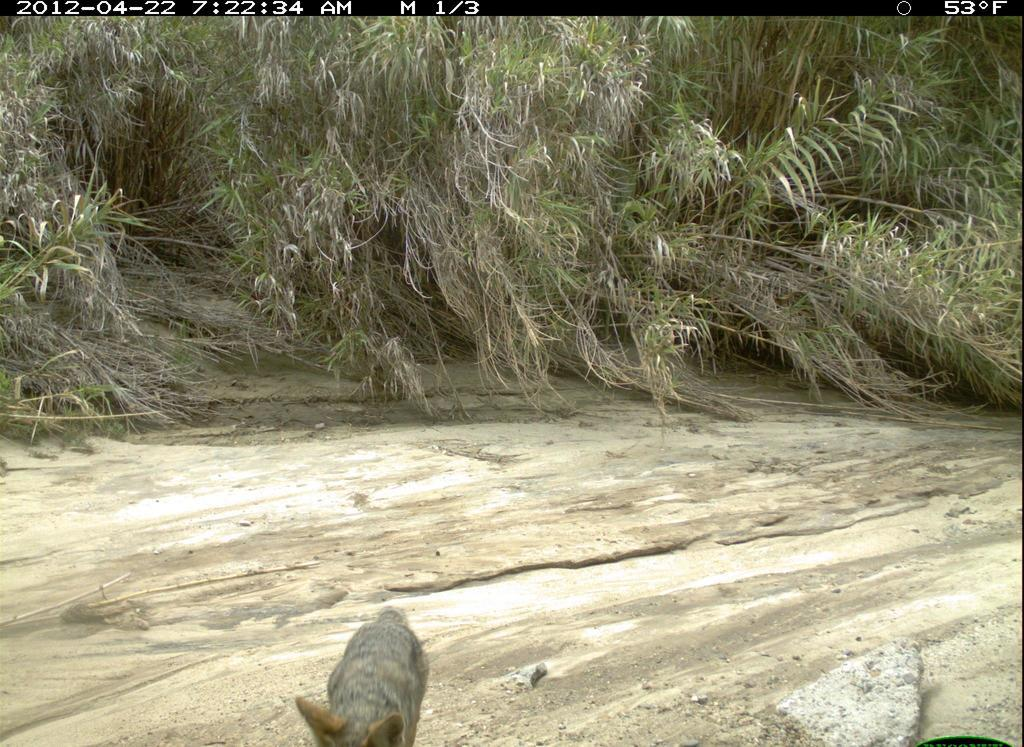coyote: (292, 587, 450, 745)
